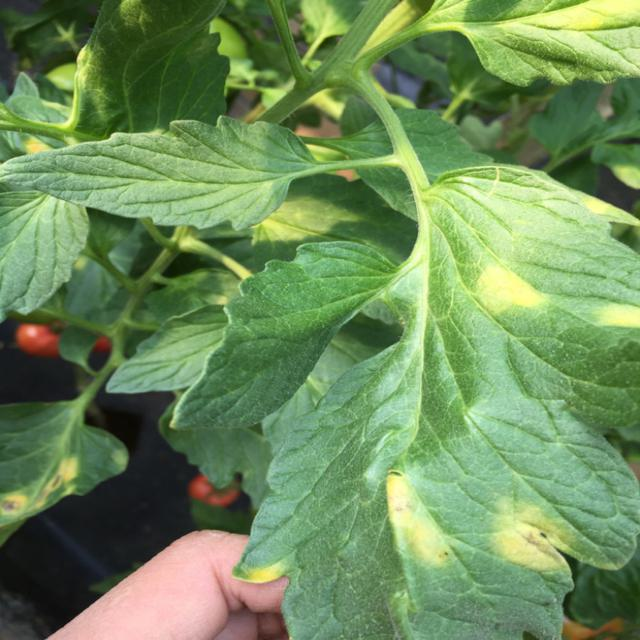Leaf_Mold: (376, 466, 457, 575), (484, 499, 588, 583), (1, 450, 79, 525), (499, 1, 640, 41), (477, 260, 549, 315), (590, 293, 640, 330), (582, 187, 635, 221), (21, 132, 52, 158)
